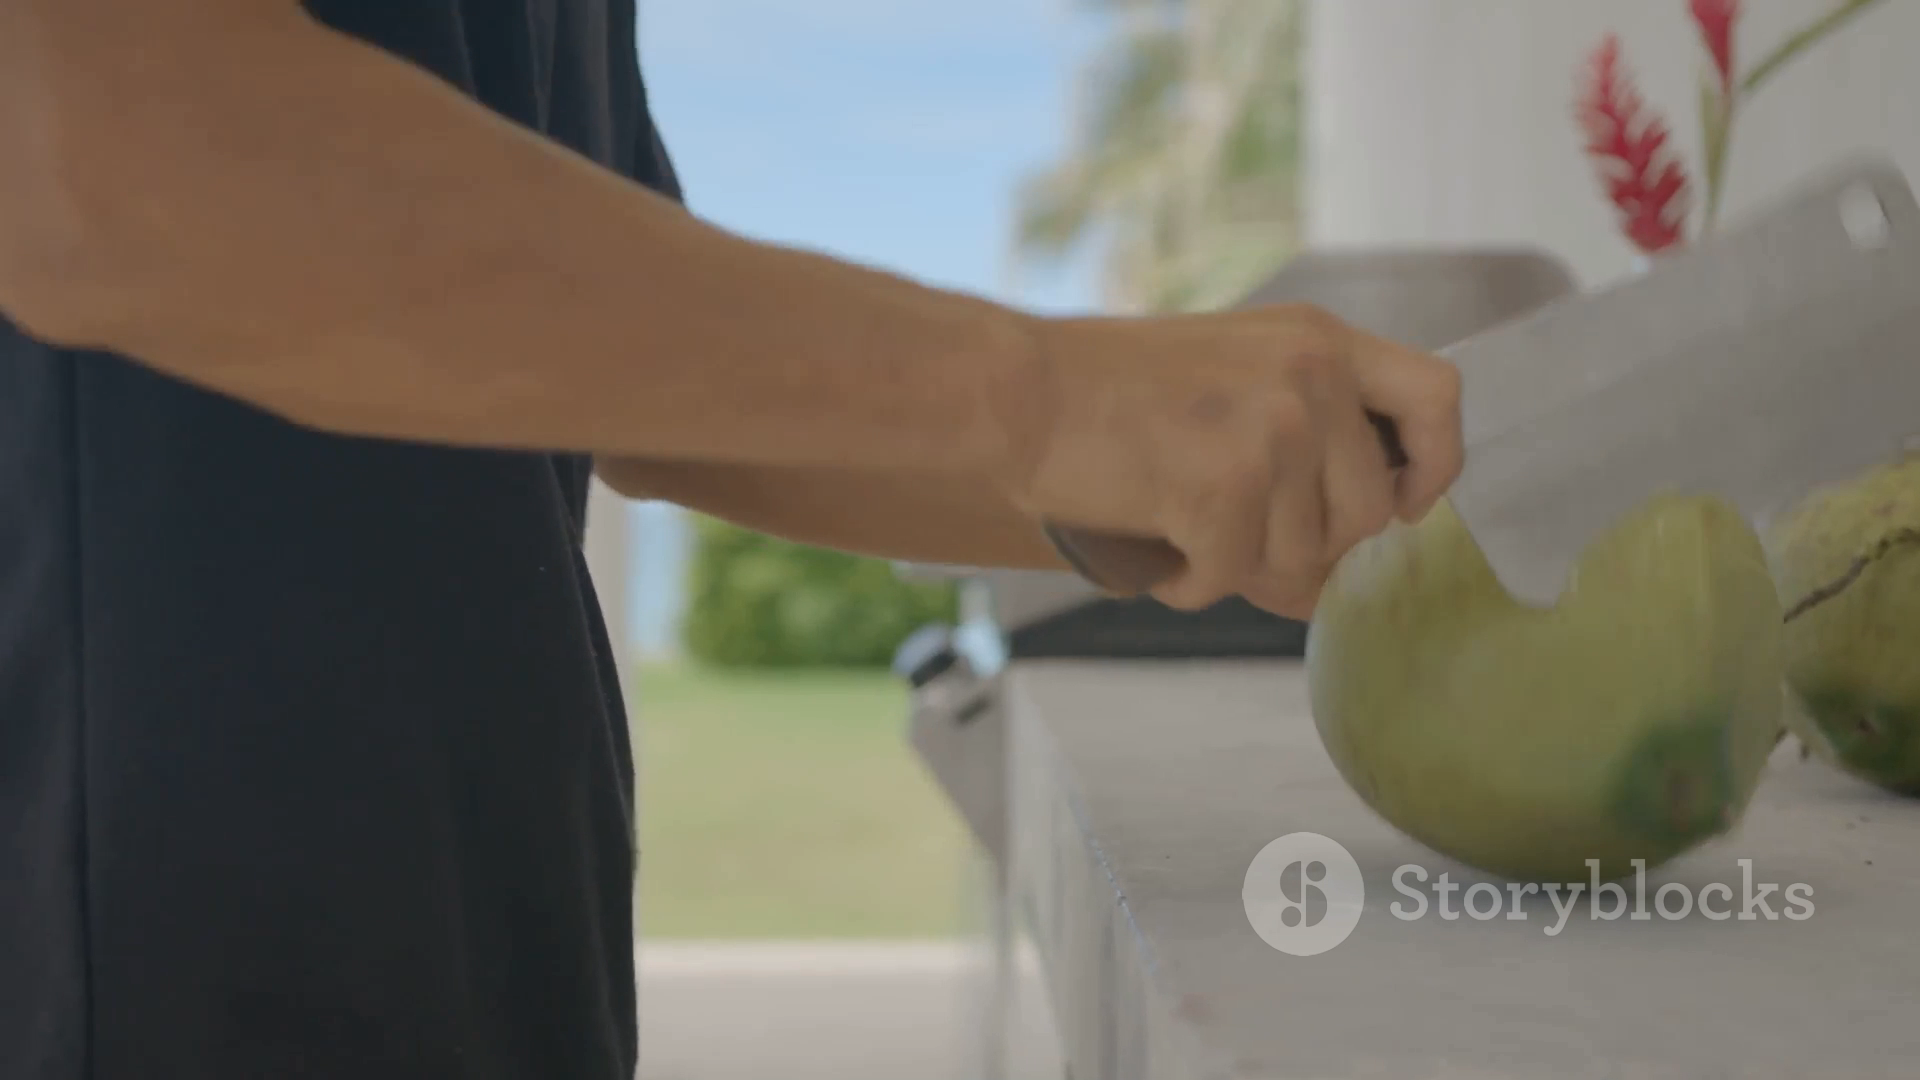cortante: (1353, 148, 1920, 611)
